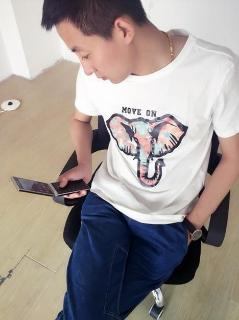short sleeve top: (75, 29, 239, 224)
trousers: (55, 171, 192, 319)
